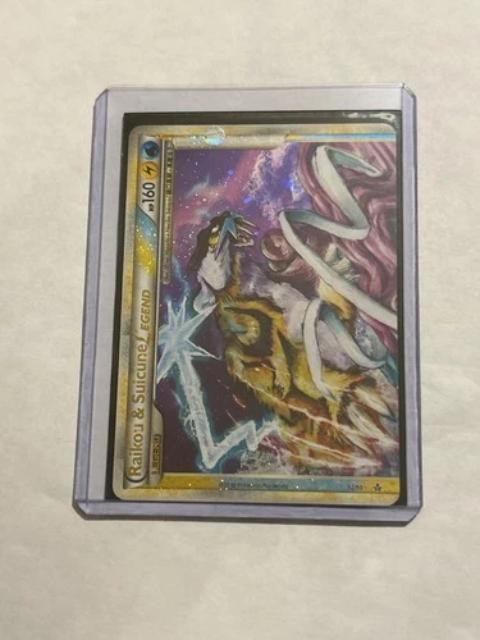Card: (108, 119, 405, 510)
Name: (124, 279, 157, 480)
